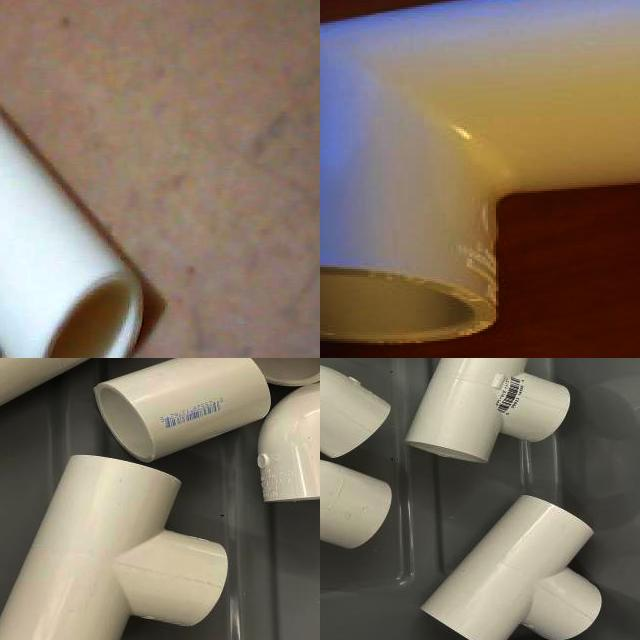L Joint: (257, 381, 320, 503), (320, 462, 395, 554), (320, 365, 391, 460)
T Joint: (0, 455, 230, 640), (0, 109, 164, 358), (420, 495, 603, 640), (405, 358, 574, 466)
